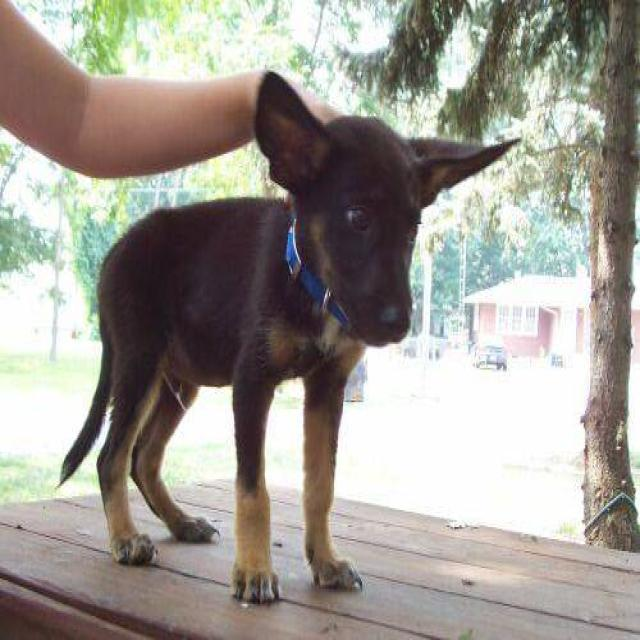dog: (55, 67, 521, 606)
